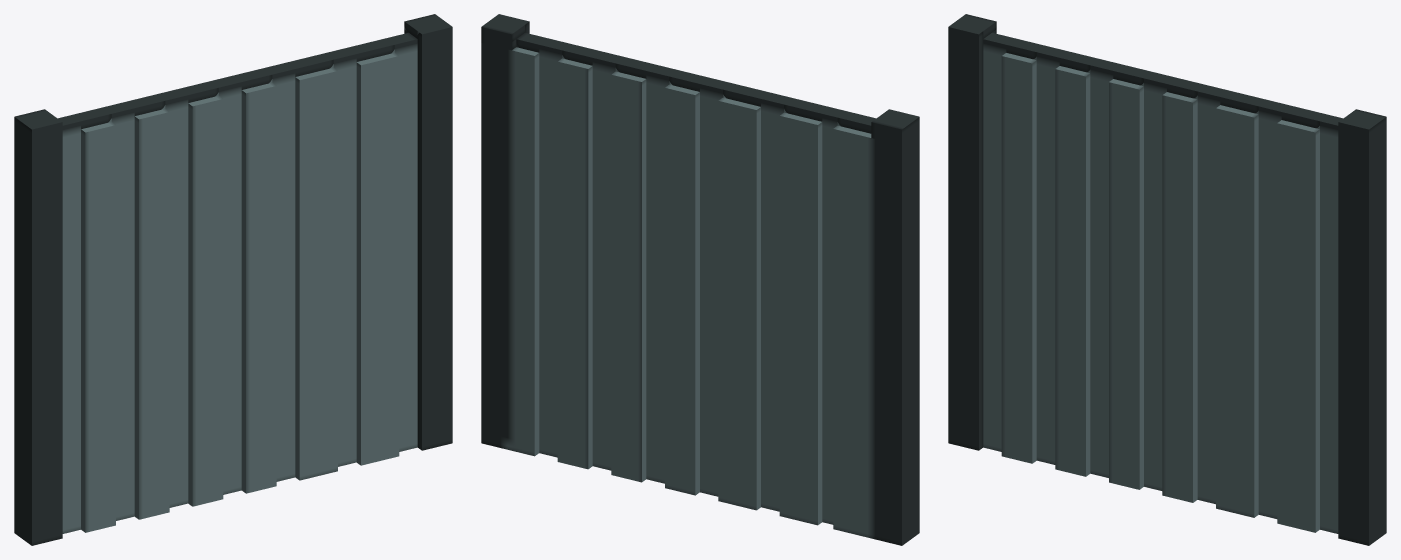
Rendered from plot_1_przeslo_budowa.dae.
3 renders of one model, left to right at view 1: azimuth 30°, elevation 25°; view 2: azimuth 150°, elevation 25°; view 3: azimuth 330°, elevation 25°, orthographic.
Parts seen in each view (by area): view 1: Content; view 2: Content; view 3: Content.
Boxes of the visible parts, x1=… form: Content: x1=14, y1=14, x2=452, y2=545; Content: x1=481, y1=14, x2=919, y2=545; Content: x1=948, y1=14, x2=1386, y2=545.
Size of the model in its own units: 55 by 52 by 4.
Materials: 1 (1 with a texture image).
